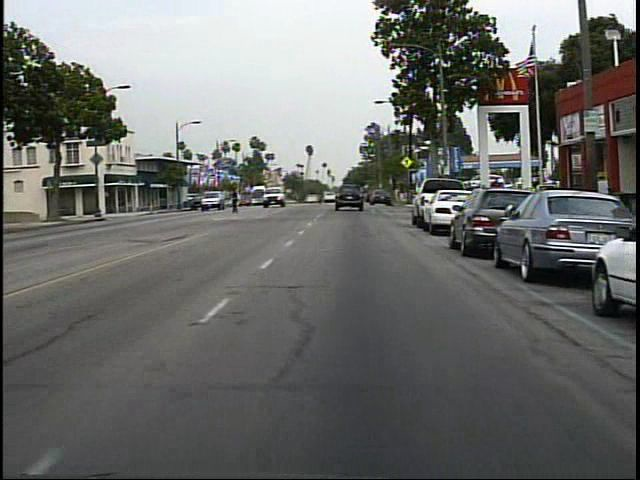person: (486, 172, 509, 219), (230, 183, 245, 218)
